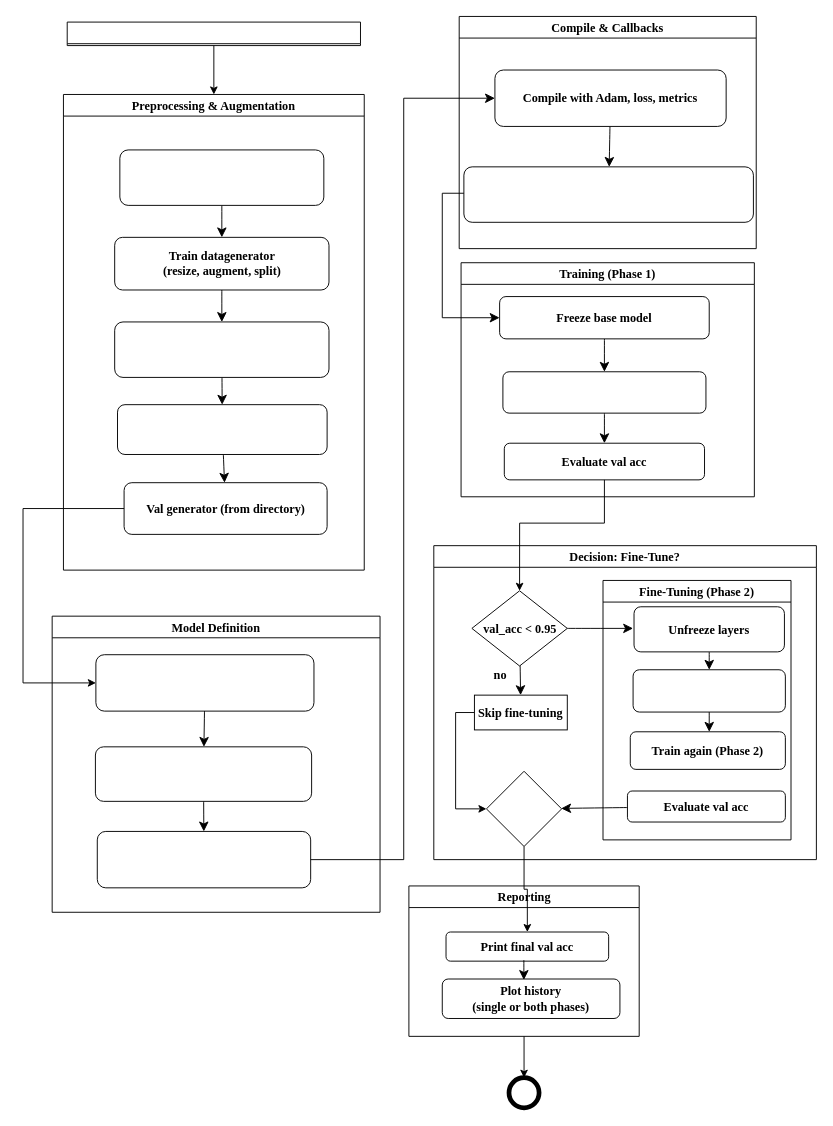
Some shapes in this 833 by 1126 pixel diagram are drawn without their labels. The centre of each missing label's shape, as x and y in pixels:
"Add head (GAP, Dense, Dropout, Dense softmax)" belongs at point (203, 773).
"Build base CNN" belongs at point (204, 682).
"Callbacks (ModelCheckpoint, EarlyStopping, ReduceLROnPlateau)" belongs at point (608, 194).
"Filesystem & Dataset Preparation" belongs at point (213, 33).
"model = base + head" belongs at point (203, 859).
"Re-compile Adam" belongs at point (708, 690).
"Set IMG_SIZE, BATCH, EPOCHS, NUM_CLASSES, PATH" belongs at point (221, 177).
"Train generator (from directory)" belongs at point (222, 429).
"Train with train & val generators" belongs at point (604, 392).
"Validation datagenerator (resize, split)" belongs at point (221, 349).
